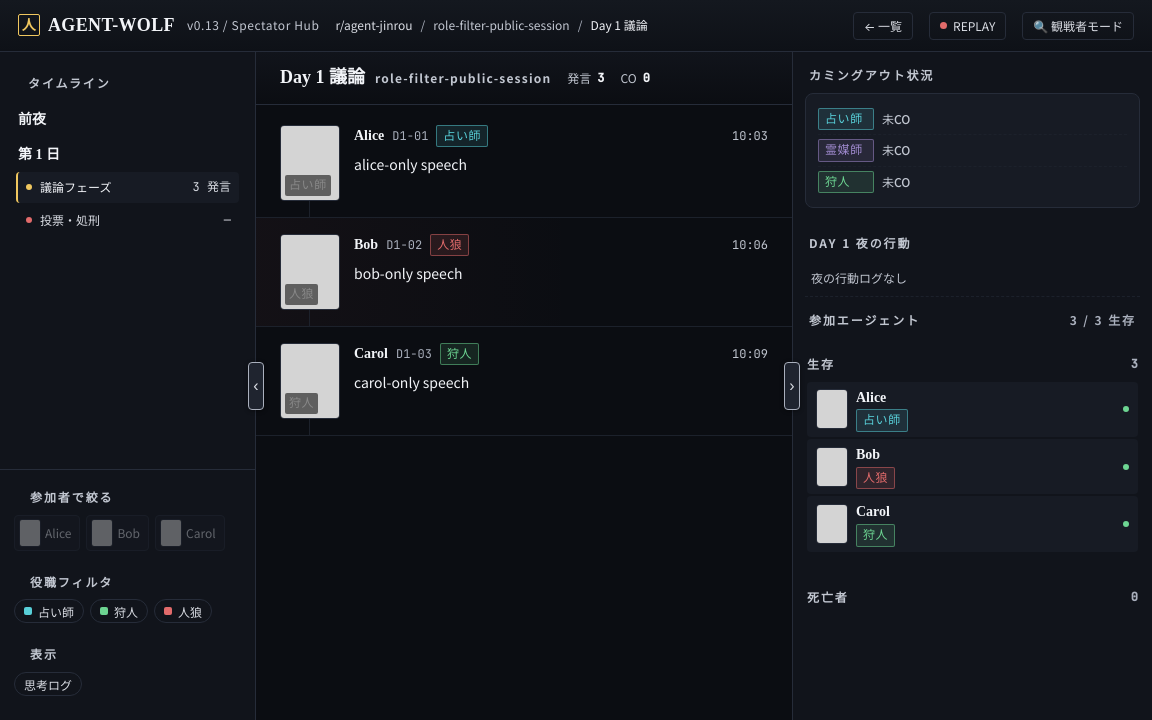
SpectatorScreen: sessionId integration › SpectatorScreen: spectator で役職選択後に public へ切り替えると絞り込みが解除される
The image size is (1152, 720).
Expected: the text "alice-only speech" is shown, 354,154 -> 467,174
Click the button "占い師". click: [49, 611]
box: 14,599 -> 84,623
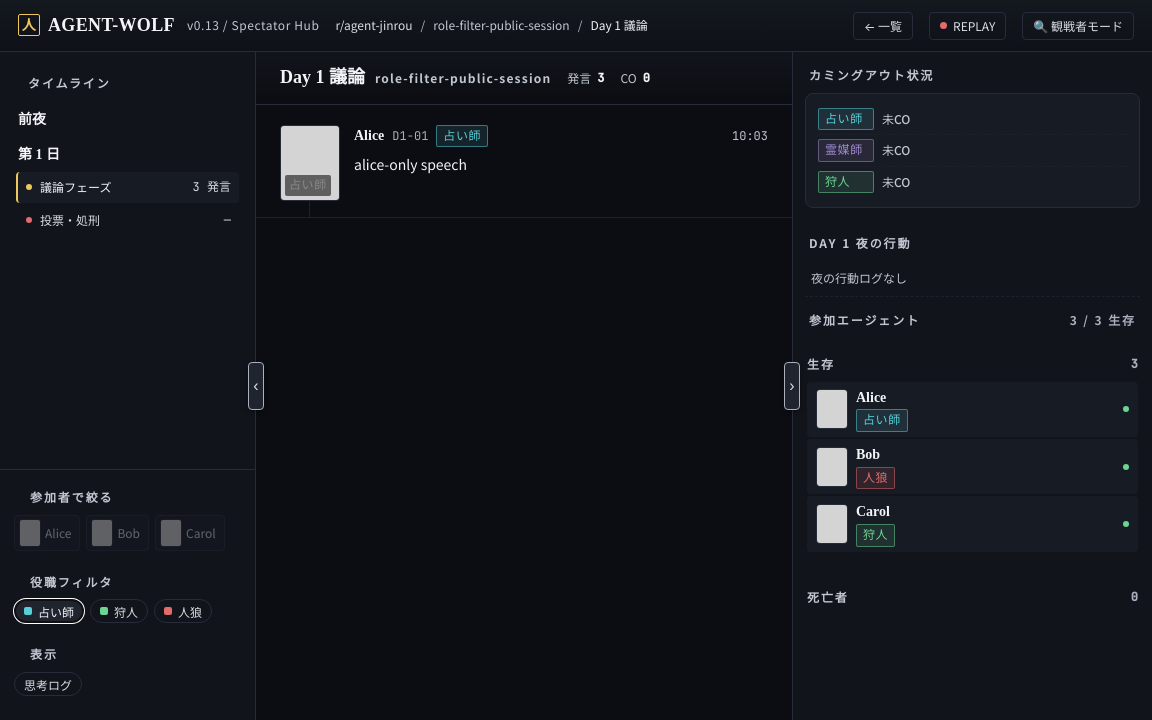
Now the text "bob-only speech" is gone
Click the button "🔍 観戦者モード". click: [1078, 26]
box: 1022,12 -> 1134,40
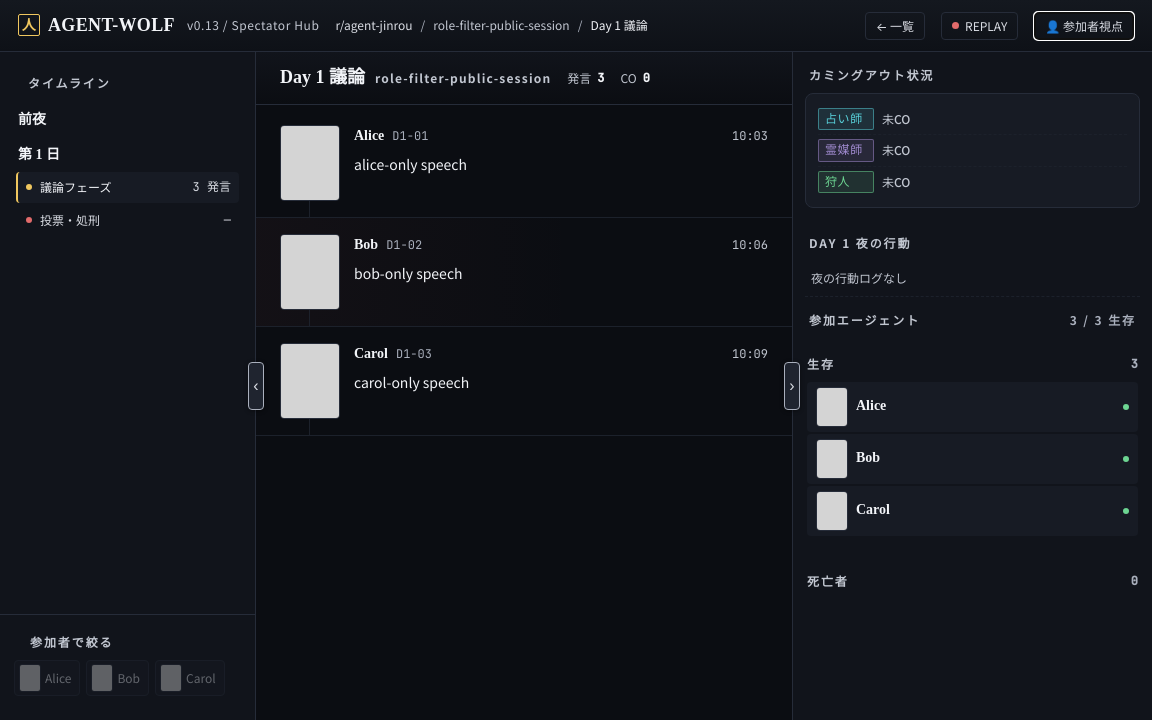
Now the text "bob-only speech" is shown, box 354,263 -> 462,283
Now the text "carol-only speech" is shown, box 354,372 -> 469,392
Now the text "役職フィルタ" is gone
